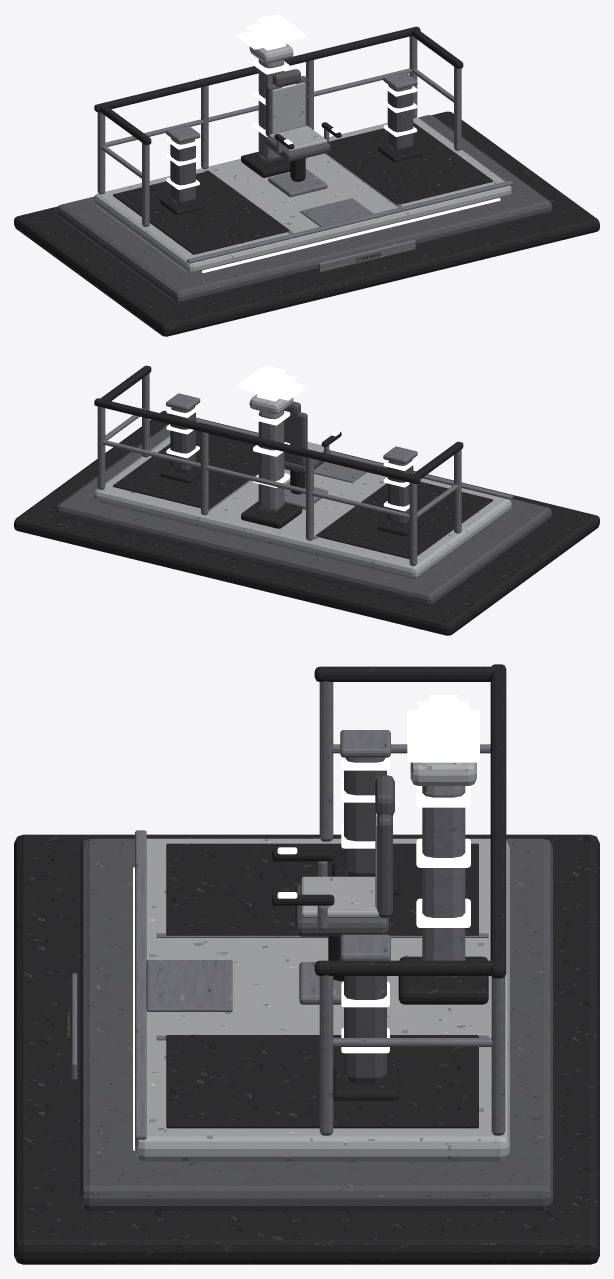
Rendered from decor_bridge_command_dais.glb.
The picture shows the model from 3 angles, top to bottom: view 1: azimuth 30°, elevation 25°; view 2: azimuth 150°, elevation 25°; view 3: azimuth 270°, elevation 25°; orthographic projection. The views are drawn at different scales.
Visible parts, largest first — view 1: DEC_BridgeCommandDais__Step_Lower, DEC_BridgeCommandDais__Step_Upper, DEC_BridgeCommandDais__Deck, DEC_BridgeCommandDais__Deck_Tread_R, DEC_BridgeCommandDais__Deck_Tread_L, DEC_BridgeCommandDais__Rail_Top_Back, DEC_BridgeCommandDais__Deck_Nose_Trim, DEC_BridgeCommandDais__Seat_Back_Pad, DEC_BridgeCommandDais__Pylon_Column_R, DEC_BridgeCommandDais__Pylon_Column_L, DEC_BridgeCommandDais__Rail_Mid_Back, DEC_BridgeCommandDais__Deck_Hatch (+21 smaller); view 2: DEC_BridgeCommandDais__Step_Lower, DEC_BridgeCommandDais__Step_Upper, DEC_BridgeCommandDais__Deck, DEC_BridgeCommandDais__Deck_Tread_L, DEC_BridgeCommandDais__Deck_Tread_R, DEC_BridgeCommandDais__Rail_Top_Back, DEC_BridgeCommandDais__Mast_Column, DEC_BridgeCommandDais__Rail_Mid_Back, DEC_BridgeCommandDais__Pylon_Column_R, DEC_BridgeCommandDais__Deck_Nose_Trim, DEC_BridgeCommandDais__Mast_Base, DEC_BridgeCommandDais__Seat_Back (+17 smaller); view 3: DEC_BridgeCommandDais__Step_Lower, DEC_BridgeCommandDais__Step_Upper, DEC_BridgeCommandDais__Deck, DEC_BridgeCommandDais__Deck_Tread_R, DEC_BridgeCommandDais__Deck_Tread_L, DEC_BridgeCommandDais__Mast_Column, DEC_BridgeCommandDais__Rail_Top_Back, DEC_BridgeCommandDais__Deck_Hatch, DEC_BridgeCommandDais__Deck_Nose_Trim, DEC_BridgeCommandDais__Pylon_Column_R, DEC_BridgeCommandDais__Pylon_Column_L, DEC_BridgeCommandDais__Rail_Top_S_R (+19 smaller).
Boxes of the visible parts, box(x1,y1,x2,y2) form: DEC_BridgeCommandDais__Step_Lower: box(14, 111, 599, 336); DEC_BridgeCommandDais__Step_Upper: box(56, 115, 551, 303); DEC_BridgeCommandDais__Deck: box(94, 117, 511, 273); DEC_BridgeCommandDais__Deck_Tread_R: box(326, 122, 492, 204); DEC_BridgeCommandDais__Deck_Tread_L: box(113, 171, 289, 254); DEC_BridgeCommandDais__Rail_Top_Back: box(94, 26, 420, 112); DEC_BridgeCommandDais__Deck_Nose_Trim: box(186, 180, 513, 263); DEC_BridgeCommandDais__Seat_Back_Pad: box(272, 82, 305, 133); DEC_BridgeCommandDais__Pylon_Column_R: box(387, 85, 413, 151); DEC_BridgeCommandDais__Pylon_Column_L: box(170, 138, 195, 204); DEC_BridgeCommandDais__Rail_Mid_Back: box(105, 68, 411, 146); DEC_BridgeCommandDais__Deck_Hatch: box(300, 198, 373, 226); DEC_BridgeCommandDais__Step_Lower: box(14, 410, 599, 635); DEC_BridgeCommandDais__Step_Upper: box(56, 424, 551, 606); DEC_BridgeCommandDais__Deck: box(94, 436, 511, 578); DEC_BridgeCommandDais__Deck_Tread_L: box(316, 481, 492, 559); DEC_BridgeCommandDais__Deck_Tread_R: box(113, 430, 258, 509); DEC_BridgeCommandDais__Rail_Top_Back: box(94, 398, 420, 483); DEC_BridgeCommandDais__Mast_Column: box(258, 410, 284, 512); DEC_BridgeCommandDais__Rail_Mid_Back: box(102, 440, 409, 519); DEC_BridgeCommandDais__Pylon_Column_R: box(170, 406, 195, 472); DEC_BridgeCommandDais__Deck_Nose_Trim: box(196, 418, 513, 499); DEC_BridgeCommandDais__Mast_Base: box(241, 501, 302, 528); DEC_BridgeCommandDais__Seat_Back: box(284, 412, 307, 465); DEC_BridgeCommandDais__Step_Lower: box(14, 834, 599, 1264); DEC_BridgeCommandDais__Step_Upper: box(80, 838, 552, 1210); DEC_BridgeCommandDais__Deck: box(135, 838, 509, 1161); DEC_BridgeCommandDais__Deck_Tread_R: box(166, 1035, 478, 1128); DEC_BridgeCommandDais__Deck_Tread_L: box(166, 843, 478, 935); DEC_BridgeCommandDais__Mast_Column: box(422, 786, 465, 977); DEC_BridgeCommandDais__Rail_Top_Back: box(490, 664, 506, 978); DEC_BridgeCommandDais__Deck_Hatch: box(146, 960, 232, 1011); DEC_BridgeCommandDais__Deck_Nose_Trim: box(135, 830, 146, 1139); DEC_BridgeCommandDais__Pylon_Column_R: box(344, 976, 386, 1083); DEC_BridgeCommandDais__Pylon_Column_L: box(344, 757, 386, 876); DEC_BridgeCommandDais__Rail_Top_S_R: box(314, 960, 495, 975).
Size of the model in its own units: 5 by 2.02 by 3.
6 materials, 4 textured.
